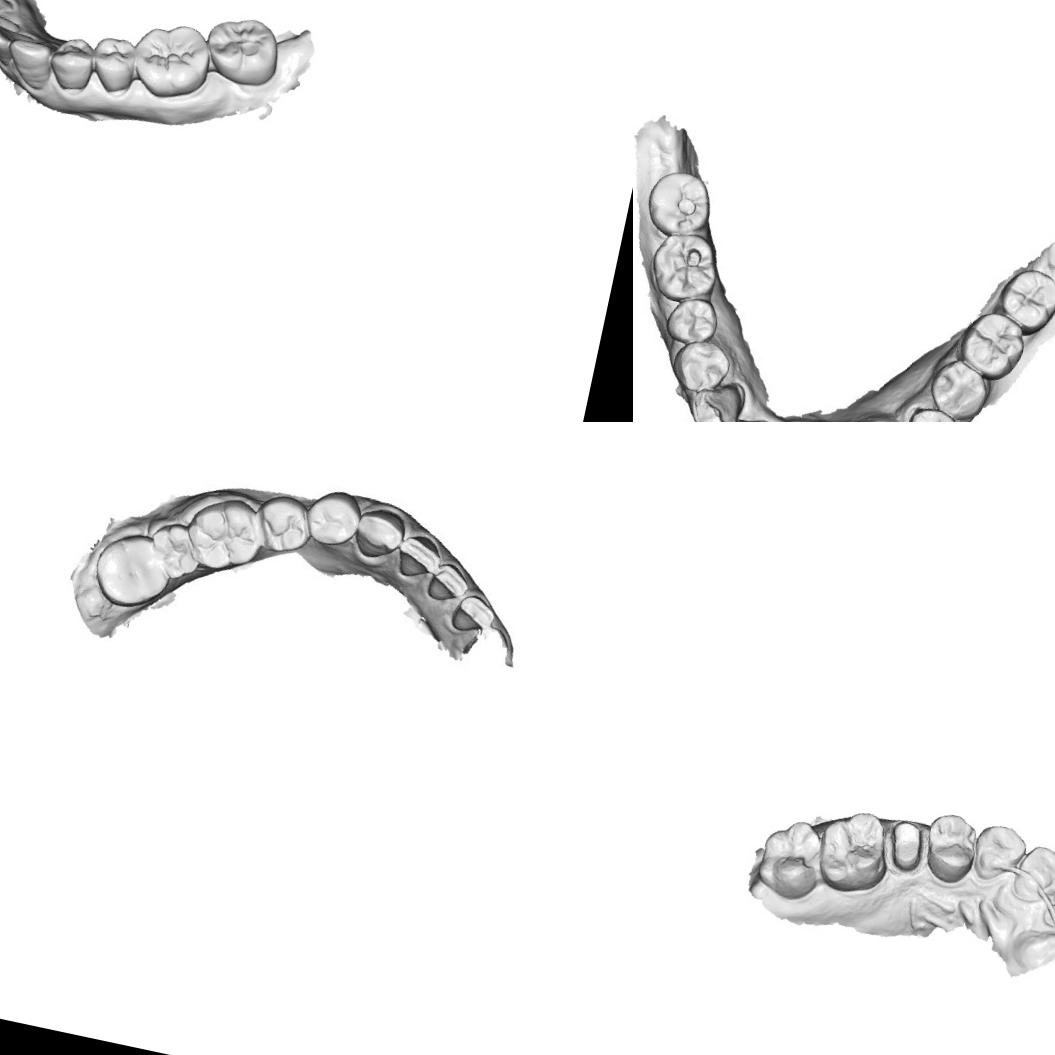canine: (967, 820, 1031, 888), (352, 503, 413, 564), (0, 33, 59, 95), (683, 374, 748, 422)
crown: (884, 816, 931, 876)
incisor: (1010, 840, 1055, 908), (394, 530, 442, 586), (424, 561, 468, 606), (450, 594, 492, 638), (0, 15, 20, 67), (0, 2, 21, 39)
molar: (125, 14, 219, 109), (810, 802, 899, 901), (752, 812, 831, 906), (198, 7, 285, 92), (644, 226, 727, 309), (91, 531, 175, 612), (639, 163, 719, 243), (184, 494, 264, 574), (954, 306, 1030, 385), (991, 262, 1055, 341)
premolar: (918, 808, 983, 889), (925, 360, 992, 422), (658, 290, 726, 351), (668, 335, 730, 400), (85, 32, 144, 100), (254, 490, 314, 556), (43, 30, 100, 97), (306, 492, 363, 554), (900, 404, 964, 422)
